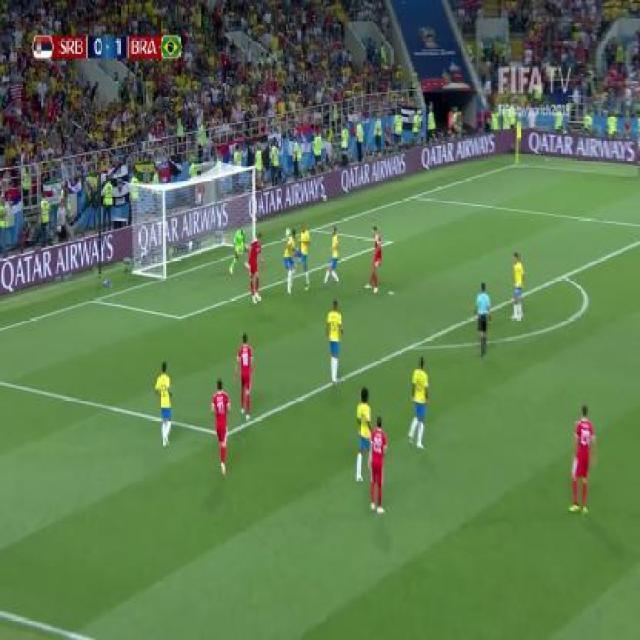ball: (284, 227, 292, 240)
player: (567, 402, 600, 513), (208, 375, 234, 477), (367, 412, 392, 514), (406, 353, 431, 450), (353, 386, 375, 483), (325, 298, 347, 392), (153, 360, 176, 448), (233, 333, 256, 421), (473, 278, 493, 357), (365, 222, 387, 293), (508, 248, 527, 322), (246, 233, 266, 302), (323, 222, 342, 287), (283, 225, 300, 296), (296, 220, 313, 289), (229, 226, 245, 277)
